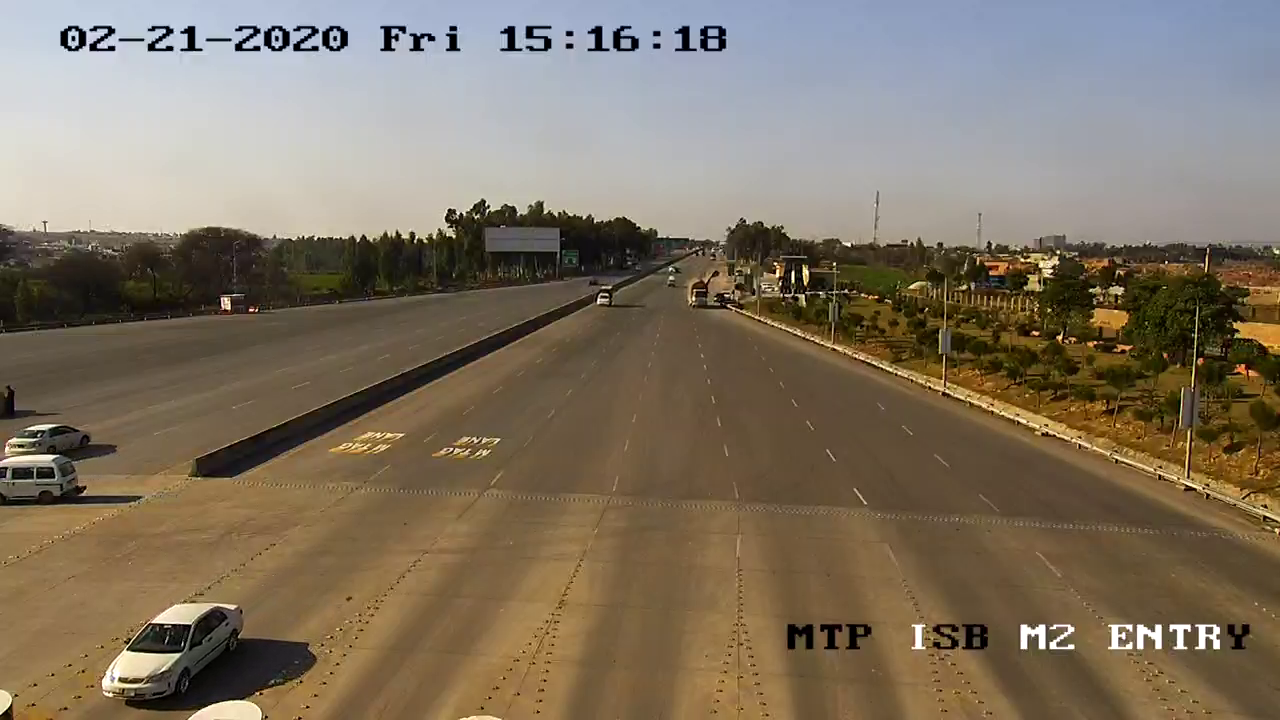f1: (92, 593, 251, 707)
